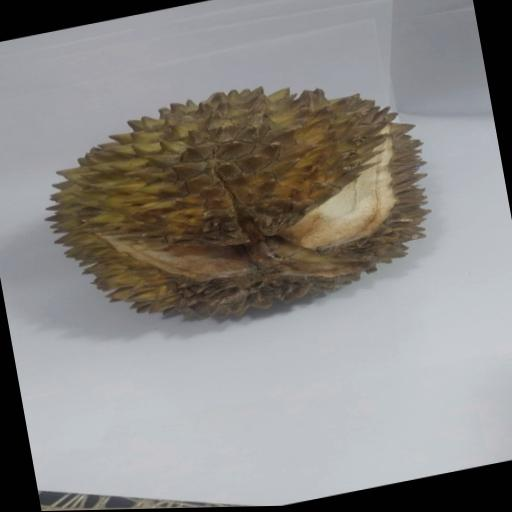mold: (162, 258, 317, 307), (313, 224, 384, 262), (181, 210, 249, 245), (251, 202, 307, 233)
